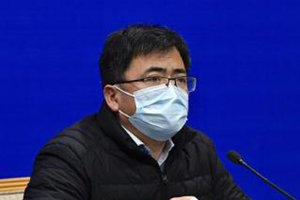Mask: (122, 49, 189, 140)
